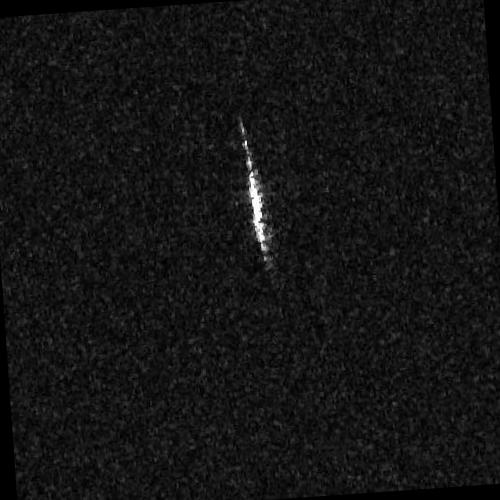ship: (242, 138, 267, 251)
